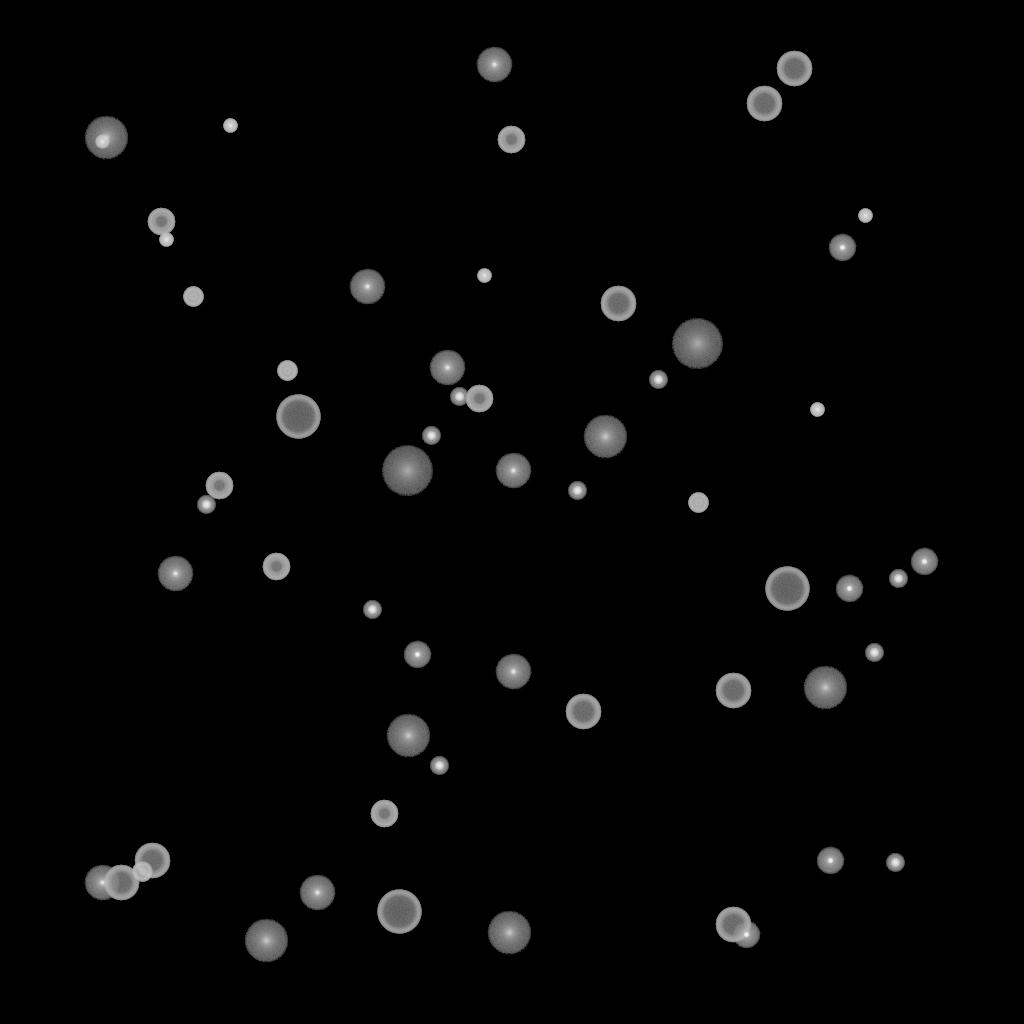depth:-10: (910, 548, 938, 576), (835, 575, 863, 603), (732, 921, 760, 949), (403, 641, 431, 669), (828, 234, 856, 262), (816, 847, 844, 875)
depth:-20: (865, 644, 883, 662), (430, 757, 448, 775), (886, 854, 904, 872), (889, 570, 907, 588), (649, 371, 667, 389), (197, 496, 215, 514), (568, 482, 586, 500), (363, 601, 381, 619), (450, 388, 468, 406), (422, 427, 440, 445)
depth:-30: (477, 269, 491, 283), (95, 135, 109, 149), (810, 403, 824, 417), (858, 209, 872, 223), (223, 119, 237, 133), (159, 233, 173, 247)
depth:-40: (132, 862, 152, 882), (277, 361, 297, 381), (688, 493, 708, 513), (183, 287, 203, 307)
depth:-50: (262, 553, 290, 581), (205, 472, 233, 500), (370, 800, 398, 828), (497, 126, 525, 154), (147, 208, 175, 236), (465, 385, 493, 413)
depth:-60: (103, 865, 139, 901), (715, 673, 751, 709), (715, 907, 751, 943), (600, 286, 636, 322), (776, 51, 812, 87), (746, 86, 782, 122), (134, 843, 170, 879), (565, 694, 601, 730)
depth:-70: (276, 395, 320, 439), (377, 890, 421, 934), (765, 567, 809, 611)
depth:0: (429, 350, 465, 386), (157, 556, 193, 592), (495, 453, 531, 489), (84, 865, 120, 901), (349, 269, 385, 305), (299, 875, 335, 911), (495, 654, 531, 690), (476, 47, 512, 83)
depth:10: (583, 415, 627, 459), (244, 919, 288, 963), (84, 116, 128, 160), (487, 911, 531, 955), (386, 714, 430, 758), (803, 666, 847, 710)
depth:20: (381, 446, 433, 496), (671, 319, 723, 369)
